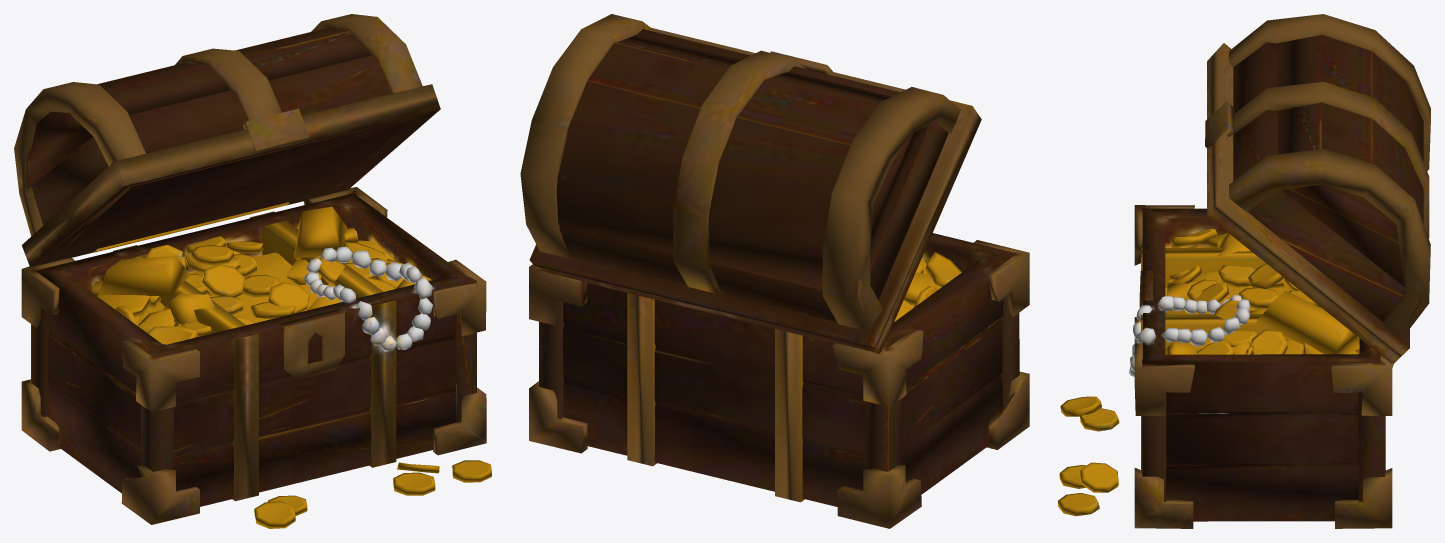
File: treasure.glb
3 renders of one model, left to right at view 1: azimuth 30°, elevation 25°; view 2: azimuth 150°, elevation 25°; view 3: azimuth 270°, elevation 25°, orthographic. The views are drawn at different scales.
Visible parts, largest first — view 1: geometry_0; view 2: geometry_0; view 3: geometry_0.
Part boxes in pixels (x1,y1,x2,y2): geometry_0: [14, 14, 491, 528]; geometry_0: [520, 14, 1029, 528]; geometry_0: [1058, 14, 1430, 528].
Bounding box in the file's own units: 0.9785 × 1 × 0.9421.
Materials: 1 (1 with a texture image).
